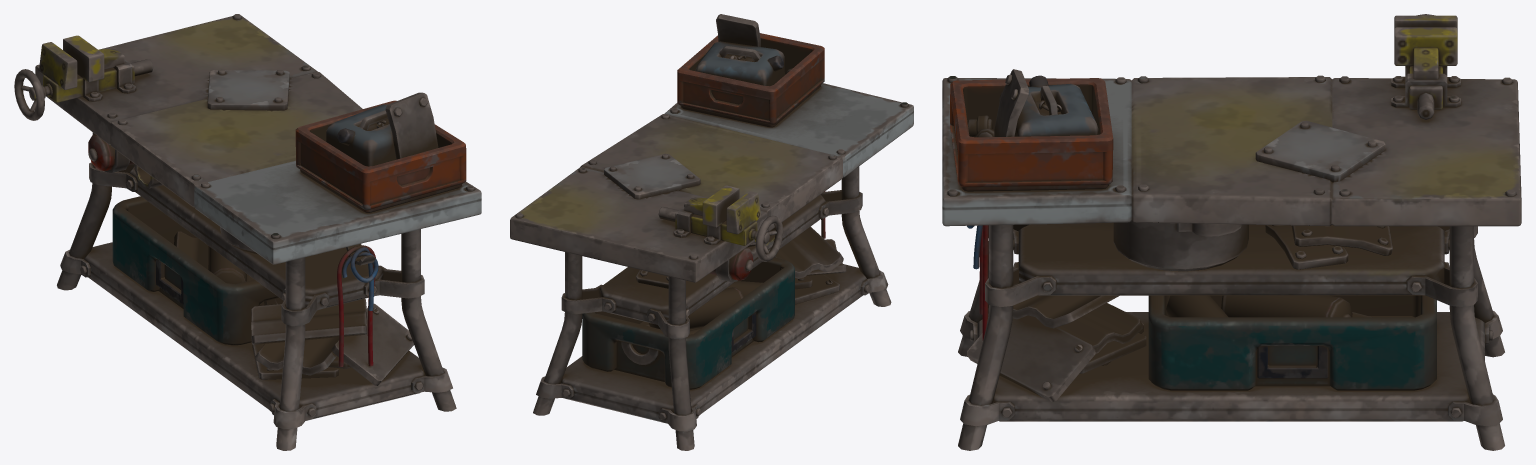
Rendered from sm_fabrication_station_01.fbx.
The picture shows the model from 3 angles, left to right: view 1: azimuth 30°, elevation 25°; view 2: azimuth 150°, elevation 25°; view 3: azimuth 270°, elevation 25°; orthographic projection. The views are drawn at different scales.
Parts seen in each view (by area): view 1: sm_fabrication_station_01; view 2: sm_fabrication_station_01; view 3: sm_fabrication_station_01.
Part boxes in pixels (left/top/right/bottom): sm_fabrication_station_01: left=14, top=14, right=481, bottom=450; sm_fabrication_station_01: left=510, top=14, right=913, bottom=450; sm_fabrication_station_01: left=942, top=14, right=1521, bottom=450.
Size of the model in its own units: 122 by 137 by 201.
1 material, 1 textured.
